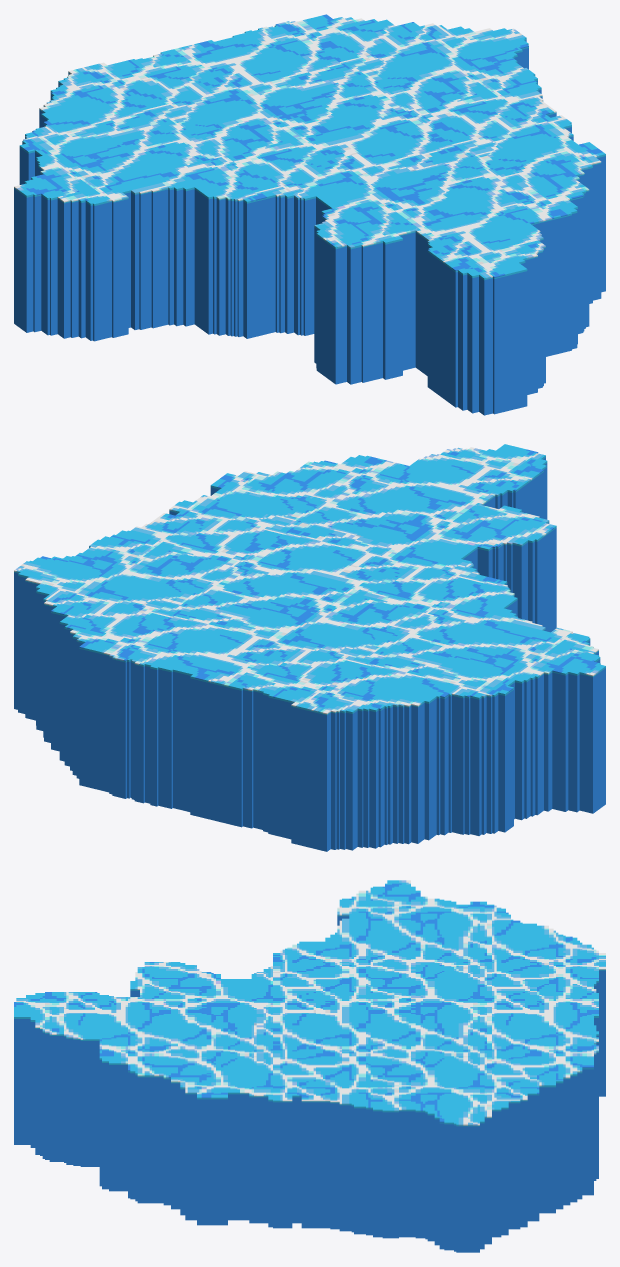
File: pond.fbx
3 views of the same model, one above another, from view 1: azimuth 30°, elevation 25°; view 2: azimuth 150°, elevation 25°; view 3: azimuth 270°, elevation 25° (orthographic). The views are drawn at different scales.
Parts seen in each view (by area): view 1: pond; view 2: pond; view 3: pond.
Boxes of the visible parts, box(x1,y1,x2,y2) form: pond: box(14, 14, 605, 415); pond: box(14, 444, 605, 851); pond: box(14, 880, 605, 1252).
Bounding box in the file's own units: 5.86 × 1.43 × 6.
1 material, 1 textured.
